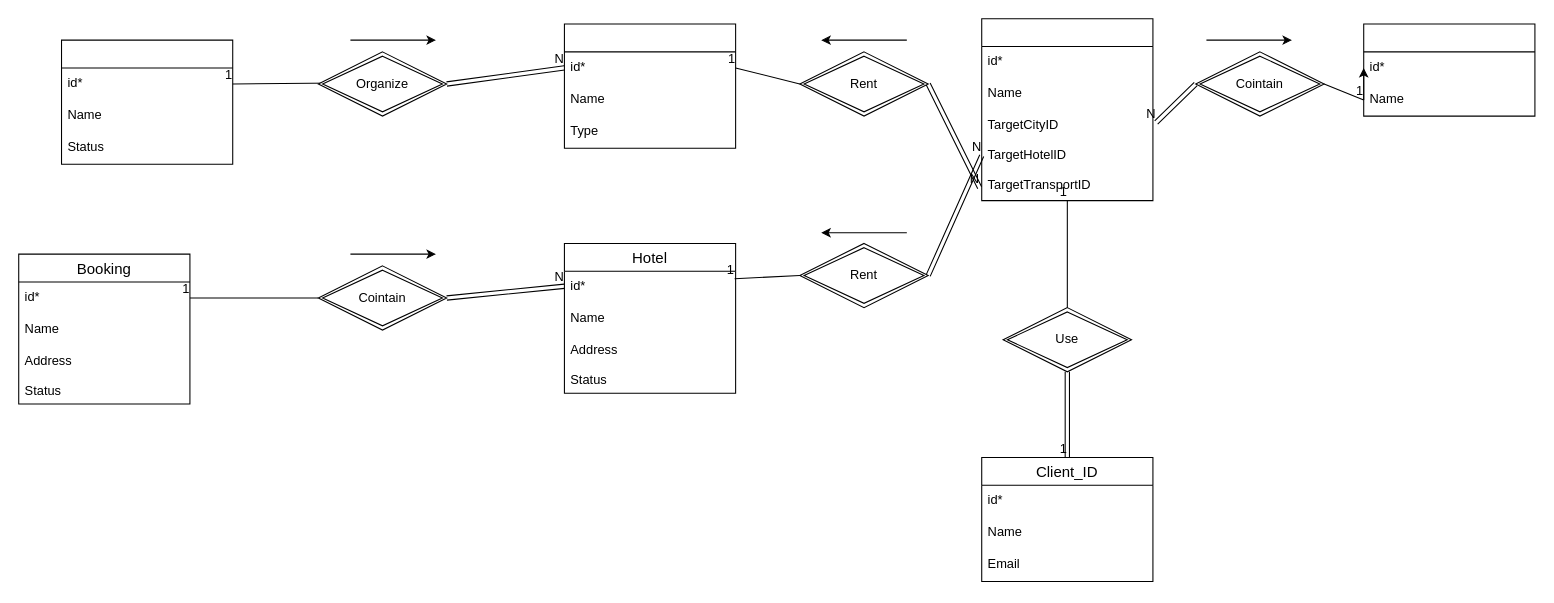
Image size: 1554x603. Some labels were removed from this diagram. The shapes that lost their labels are listed below. From the top down, each one's box as (x1, y1, x2, y2) in pixels, then its label:
(563, 23, 736, 148): Transport
(1363, 23, 1535, 116): City
(60, 39, 233, 164): TransportAgents
(981, 18, 1153, 201): Tours
